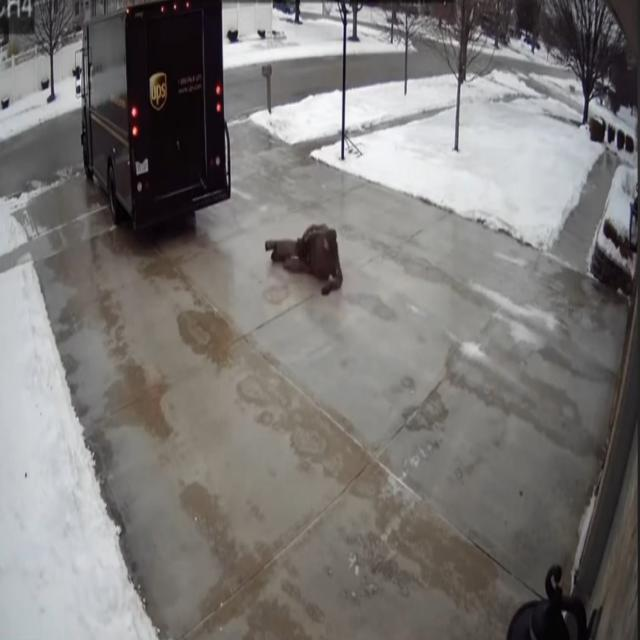fallen: (265, 224, 343, 295)
